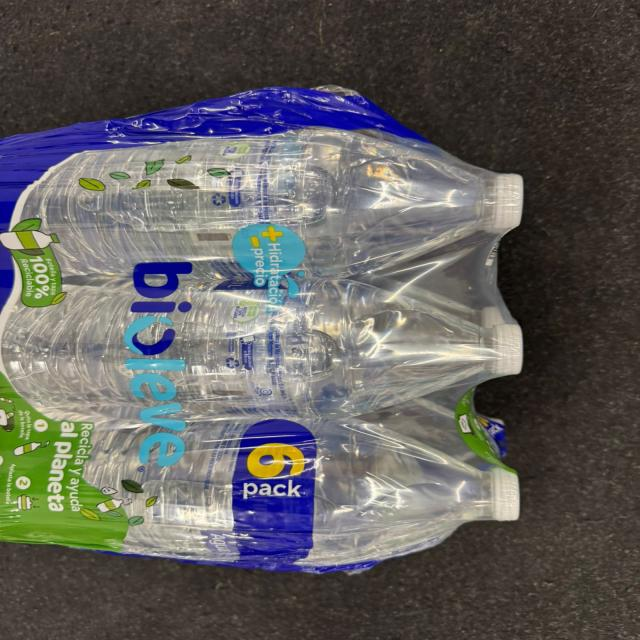Agua Bioleve 1L 6pack: (8, 86, 531, 579)
